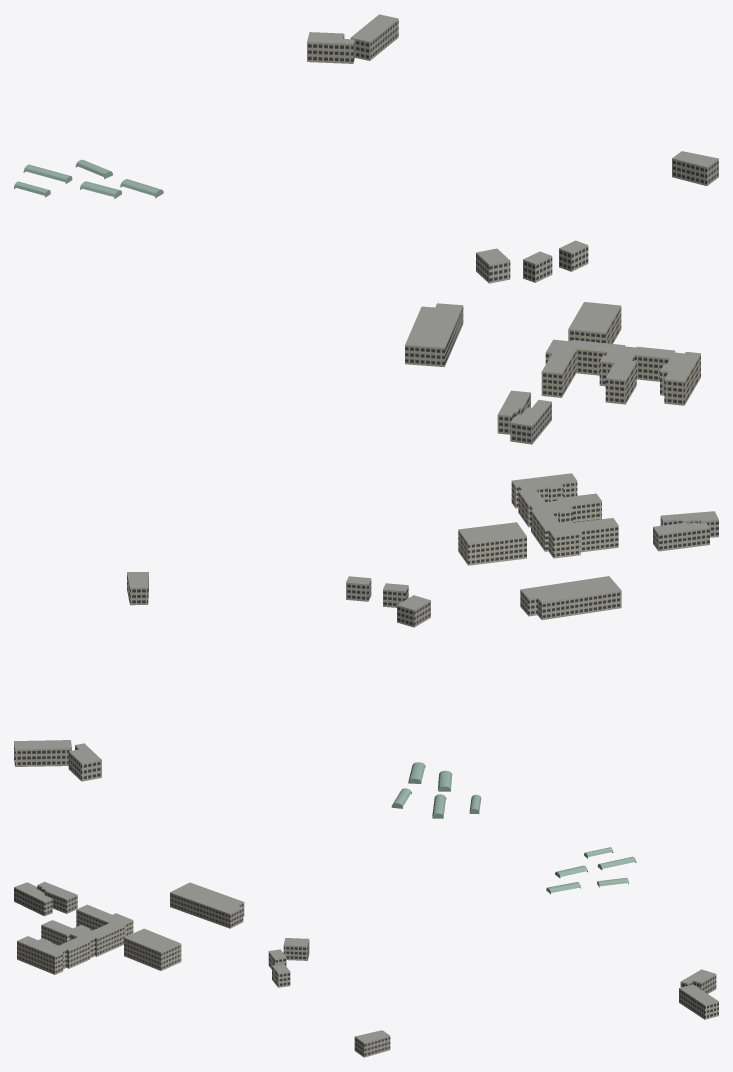
3 views of the same model, one above another, from view 1: azimuth 30°, elevation 25°; view 2: azimuth 150°, elevation 25°; view 3: azimuth 270°, elevation 25° (orthographic). The views are drawn at different scales.
Visible parts, largest first — view 1: ctx-roof, ctx-other, ctx-school, ctx-greenhouse; view 2: ctx-roof, ctx-other, ctx-school, ctx-greenhouse; view 3: ctx-roof, ctx-other, ctx-school, ctx-greenhouse.
Boxes of the visible parts, left/top/right/bottom form: ctx-roof: left=307, top=14, right=718, bottom=425; ctx-other: left=307, top=19, right=718, bottom=444; ctx-school: left=541, top=306, right=700, bottom=405; ctx-greenhouse: left=14, top=159, right=163, bottom=198; ctx-roof: left=14, top=473, right=718, bottom=763; ctx-other: left=14, top=516, right=718, bottom=781; ctx-school: left=458, top=481, right=618, bottom=565; ctx-greenhouse: left=391, top=762, right=481, bottom=818; ctx-roof: left=14, top=881, right=718, bottom=1043; ctx-other: left=14, top=885, right=718, bottom=1057; ctx-school: left=17, top=909, right=181, bottom=974; ctx-greenhouse: left=546, top=847, right=636, bottom=894.
Bounding box in the file's own units: 350 × 15.35 × 510.
4 materials, 2 textured.
